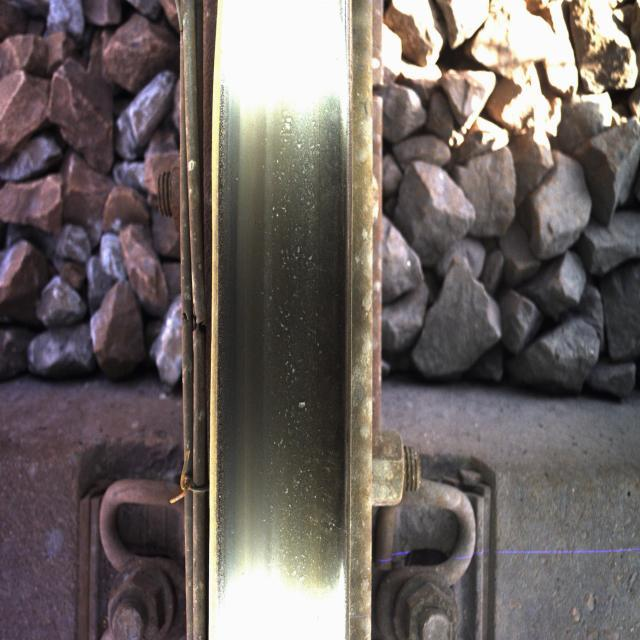break: (230, 27, 336, 628)
